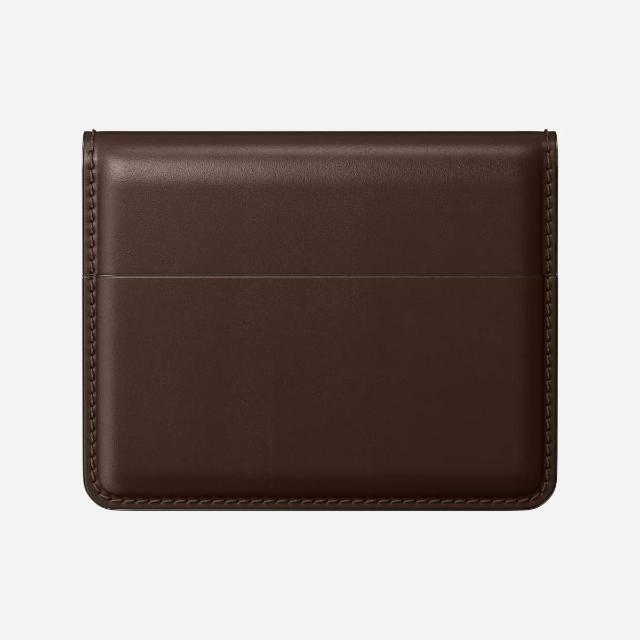Wallet: (83, 132, 557, 508)
